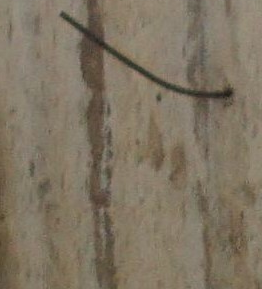Exposed reinforcement: (58, 9, 233, 99)
